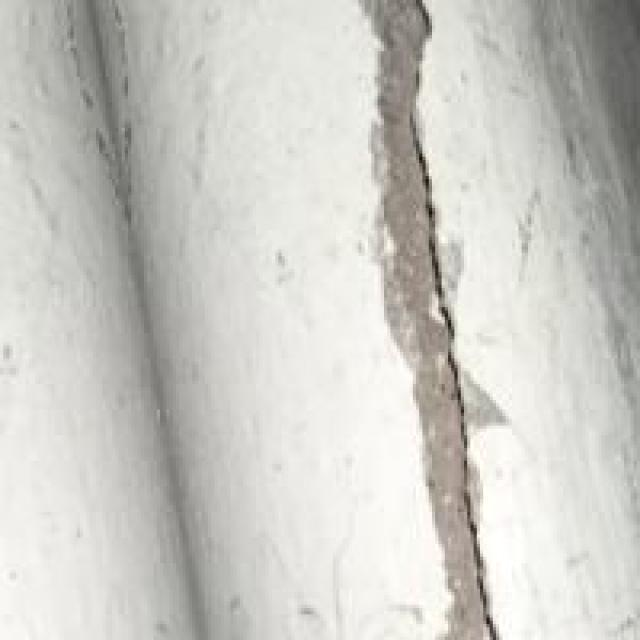crack: (342, 0, 532, 640)
